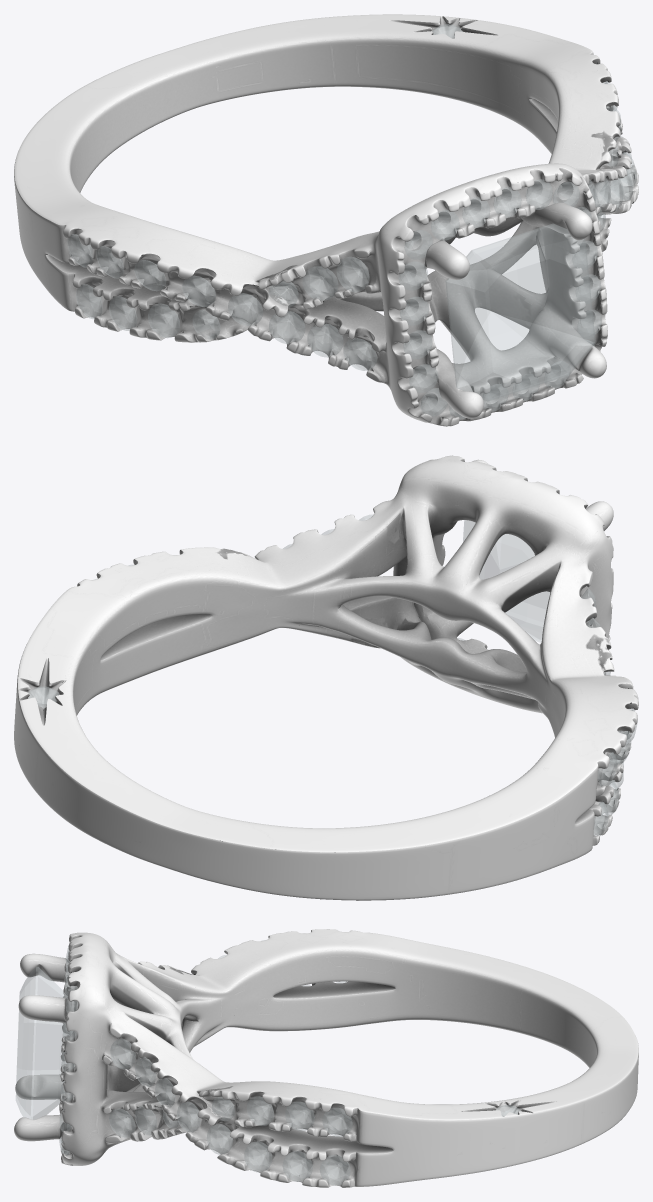
File: ring-transformed.glb
The picture shows the model from 3 angles, top to bottom: view 1: azimuth 30°, elevation 25°; view 2: azimuth 150°, elevation 25°; view 3: azimuth 270°, elevation 25°; orthographic projection. The views are drawn at different scales.
Parts seen in each view (by area): view 1: ring, diamonds; view 2: ring, diamonds; view 3: ring, diamonds.
Boxes of the visible parts, x1,y1,x2,y2 form: ring: (14, 14, 638, 426); diamonds: (67, 24, 636, 419); ring: (14, 455, 638, 900); diamonds: (28, 514, 637, 835); ring: (14, 929, 638, 1187); diamonds: (16, 940, 520, 1185).
Bounding box in the file's own units: 1.65 × 0.6717 × 1.95.
2 materials, 1 textured.
